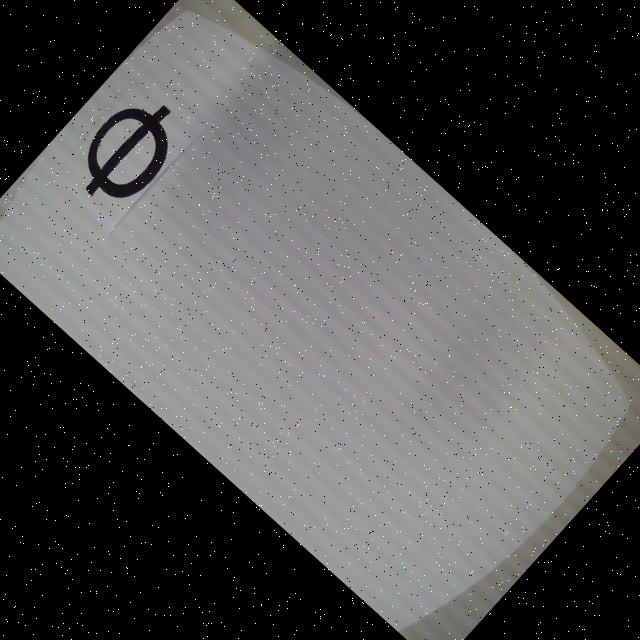PHI: (60, 81, 195, 220)
